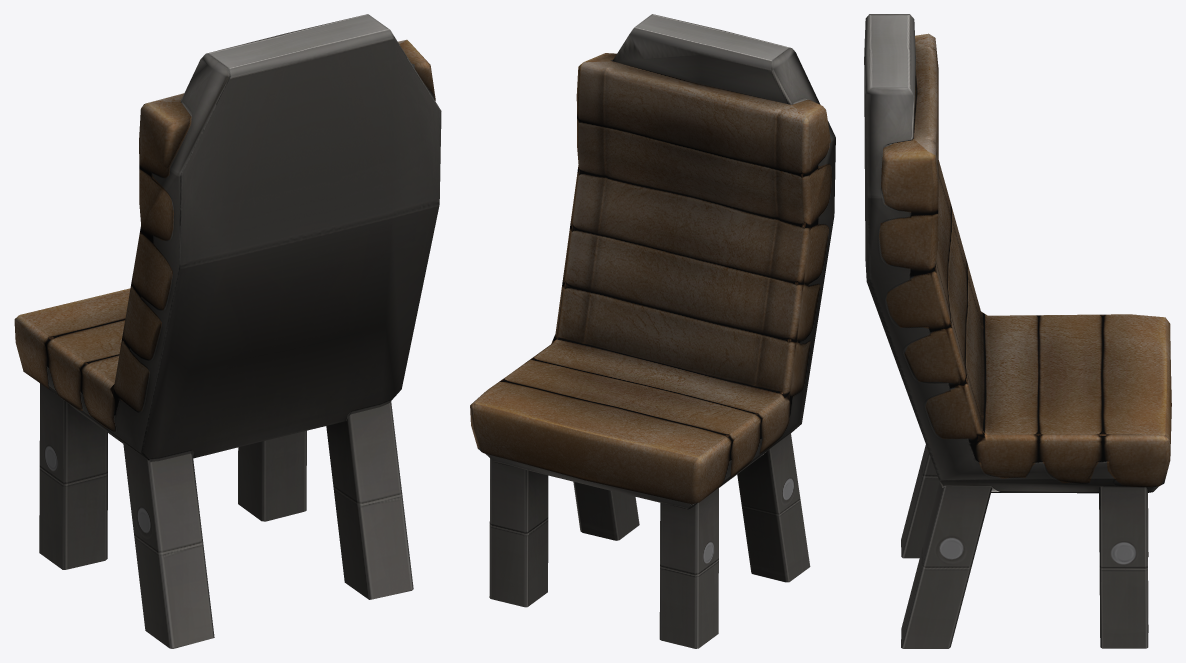
The model's file is Chair.fbx.
3 views of the same model, side by side, from view 1: azimuth 30°, elevation 25°; view 2: azimuth 150°, elevation 25°; view 3: azimuth 270°, elevation 25° (orthographic). The views are drawn at different scales.
Parts seen in each view (by area): view 1: Chair1:polySurface1; view 2: Chair1:polySurface1; view 3: Chair1:polySurface1.
Part boxes in pixels (bbox=[...]): Chair1:polySurface1: bbox=[14, 14, 441, 648]; Chair1:polySurface1: bbox=[470, 14, 835, 648]; Chair1:polySurface1: bbox=[864, 14, 1171, 648].
Bounding box in the file's own units: 76.26 × 154 × 79.41.
